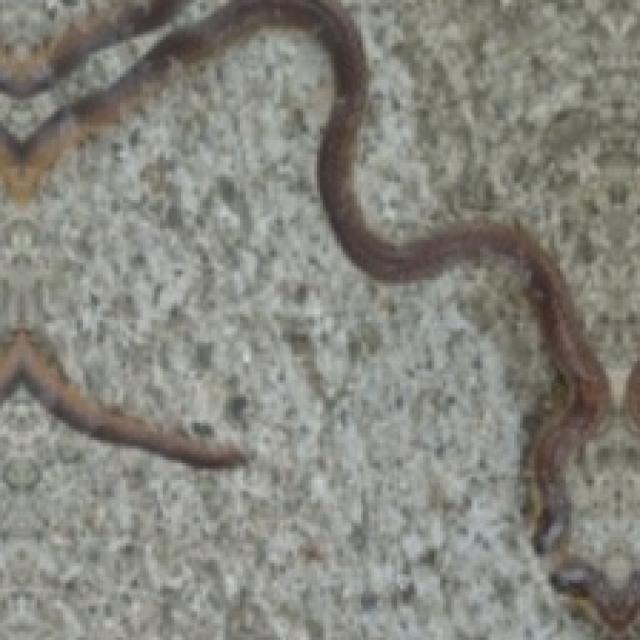gervais worm snake: (0, 0, 640, 632), (0, 329, 245, 468)
